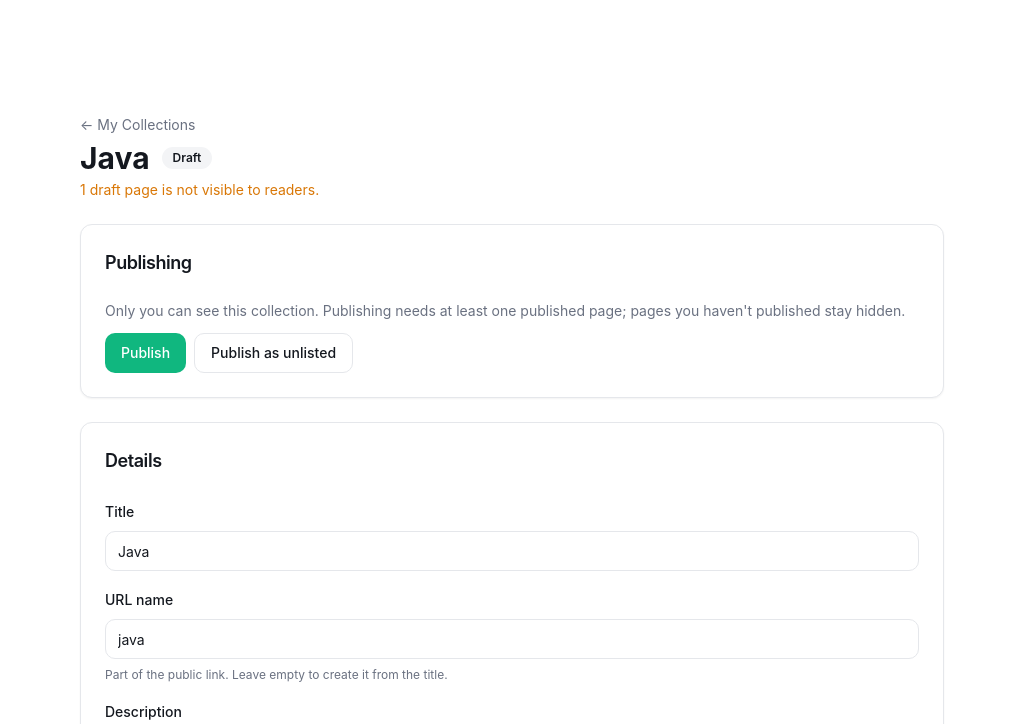
Scenario: publishing a collection › publishes as unlisted with exactly the status the API accepts, and offers no public link for a draft
Expected: the heading "Java" is shown, [80,140,150,176]
Expected: the link "view public page" is not shown
Click the button "Publish as unlisted".
click(274, 353)  # box [194,333,353,373]
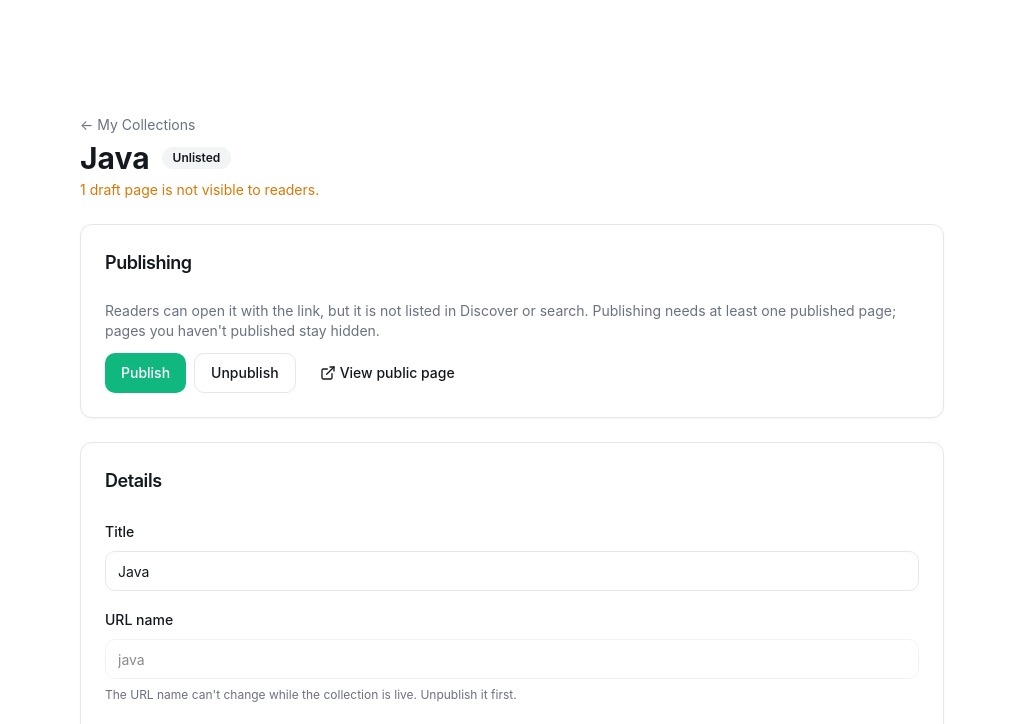
Expected: the button "Publish" is shown, [105,353,186,393]
Now the text with test id "status-badge" reads "Unlisted", box [173,150,220,165]
Now the text "not listed in Discover or search" is shown, box [105,302,589,319]
